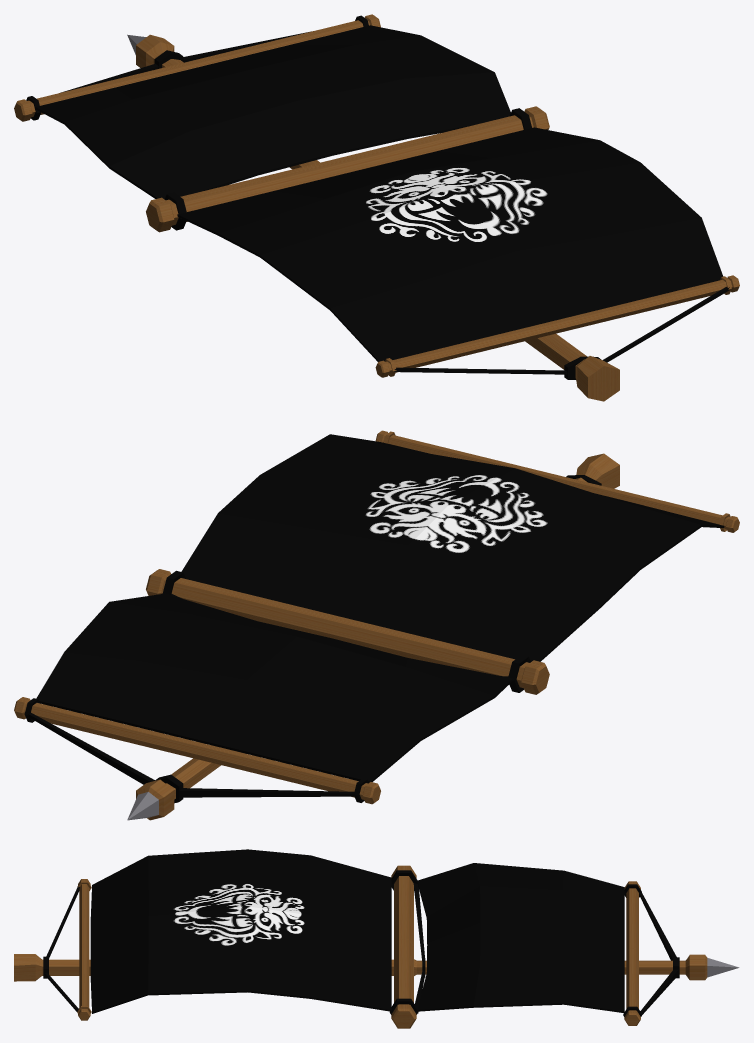
The model's file is sail_a_13.fbx.
3 views of the same model, one above another, from view 1: azimuth 30°, elevation 25°; view 2: azimuth 150°, elevation 25°; view 3: azimuth 270°, elevation 25° (orthographic). The views are drawn at different scales.
Parts seen in each view (by area): view 1: Cube.063; view 2: Cube.063; view 3: Cube.063.
Boxes of the visible parts, x1=… form: Cube.063: x1=14, y1=14, x2=739, y2=401; Cube.063: x1=14, y1=430, x2=739, y2=820; Cube.063: x1=14, y1=849, x2=739, y2=1028.
Bounding box in the file's own units: 122 × 29.19 × 258.
